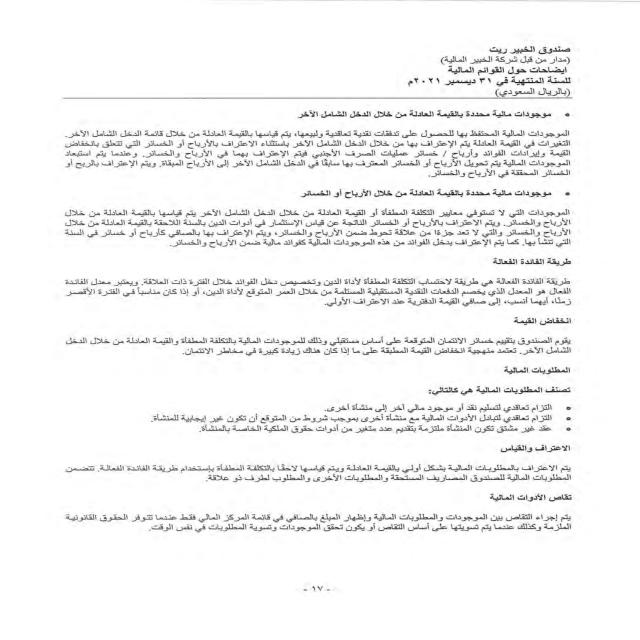notes: (446, 64, 567, 76)
text: (32, 106, 606, 542)
